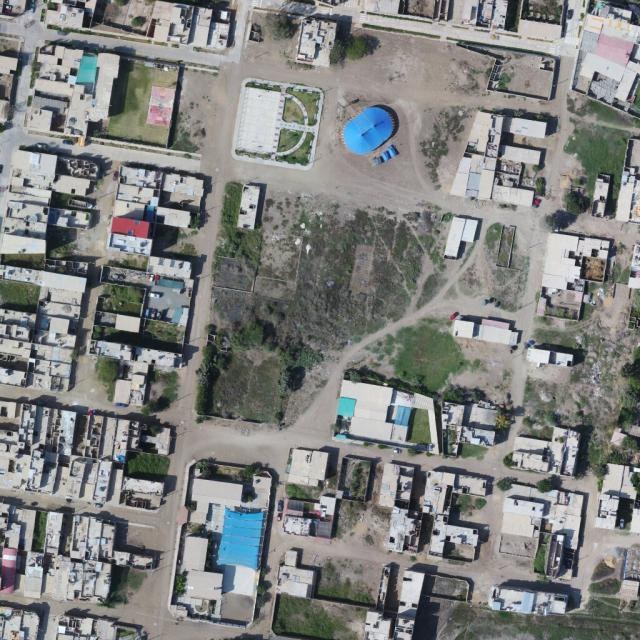building: (80, 163, 211, 414), (278, 446, 495, 568), (329, 364, 507, 476), (0, 399, 172, 514), (170, 459, 275, 628), (26, 41, 181, 149), (448, 103, 552, 212), (40, 0, 235, 57), (488, 480, 588, 583), (230, 77, 323, 170), (334, 89, 426, 181), (534, 231, 616, 330), (512, 422, 585, 479), (486, 580, 575, 624), (592, 460, 640, 536), (445, 310, 524, 355), (292, 15, 339, 71), (437, 210, 483, 267), (523, 344, 580, 374)
greenland: (194, 186, 462, 447)
metalled_road: (0, 125, 203, 180), (6, 0, 48, 132)
unmetalled_road: (472, 59, 581, 605), (150, 66, 244, 640), (312, 80, 560, 231)
